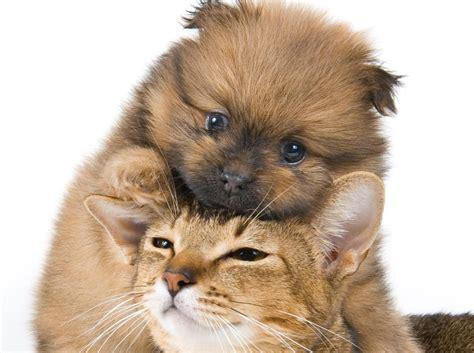cat: (86, 172, 383, 353)
dog: (38, 2, 417, 353)
